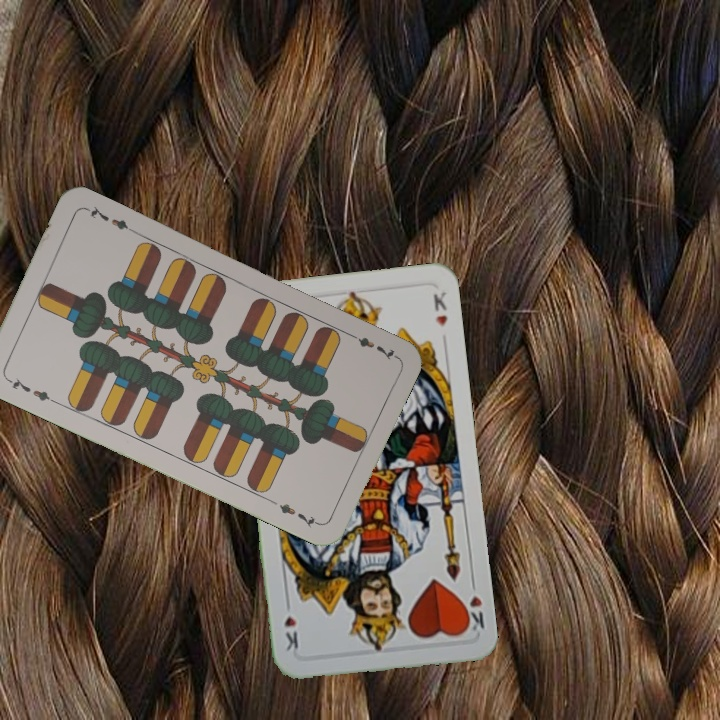E7: (343, 328, 398, 363), (2, 374, 58, 406)
HK: (458, 575, 487, 634)
